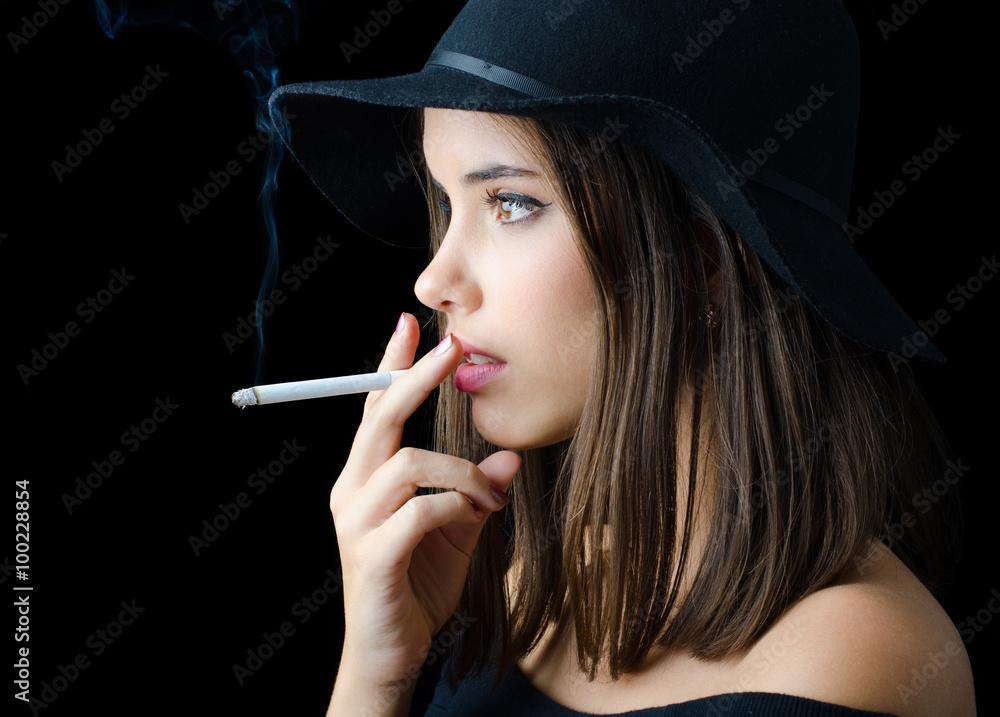cigarette: (232, 369, 406, 407)
